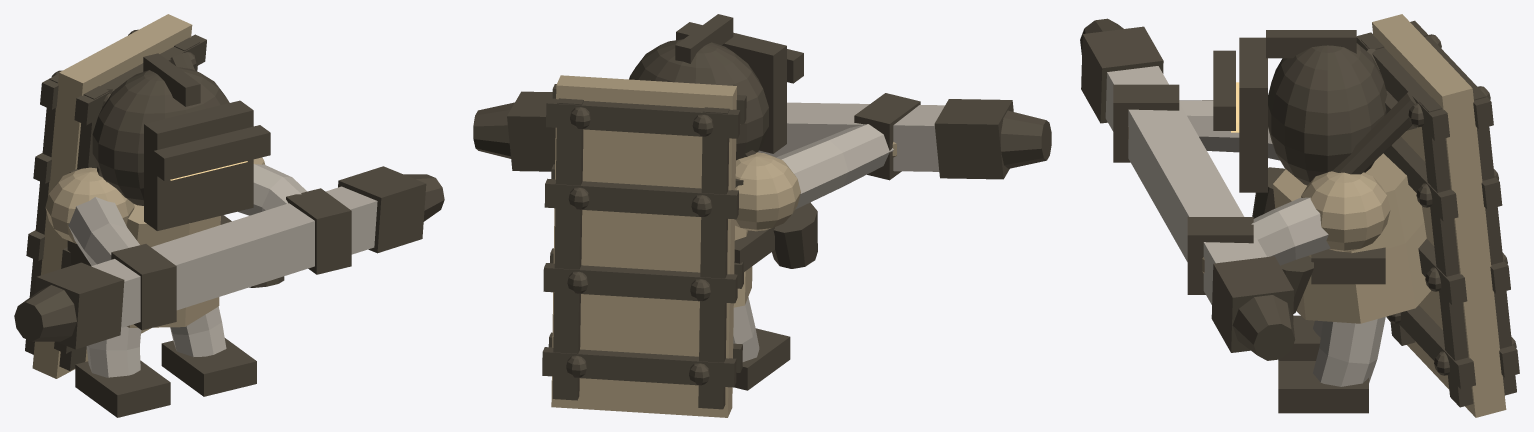
Rendered from porter_chibi.glb.
The picture shows the model from 3 angles, left to right: view 1: azimuth 30°, elevation 25°; view 2: azimuth 150°, elevation 25°; view 3: azimuth 270°, elevation 25°; orthographic projection. The views are drawn at different scales.
Visible parts, largest first — view 1: porter_chibi_dark, porter_chibi_bone, porter_chibi_body; view 2: porter_chibi_dark, porter_chibi_body, porter_chibi_bone; view 3: porter_chibi_dark, porter_chibi_body, porter_chibi_bone.
Part boxes in pixels (x1,y1,x2,y2): porter_chibi_dark: [14, 29, 444, 417]; porter_chibi_bone: [68, 164, 377, 377]; porter_chibi_body: [32, 14, 265, 378]; porter_chibi_dark: [473, 14, 1051, 409]; porter_chibi_body: [551, 75, 896, 417]; porter_chibi_bone: [733, 102, 944, 361]; porter_chibi_dark: [1080, 18, 1519, 413]; porter_chibi_body: [1128, 14, 1506, 417]; porter_chibi_bone: [1105, 66, 1385, 386].
Bounding box in the file's own units: 3.66 × 2.3 × 2.64.
